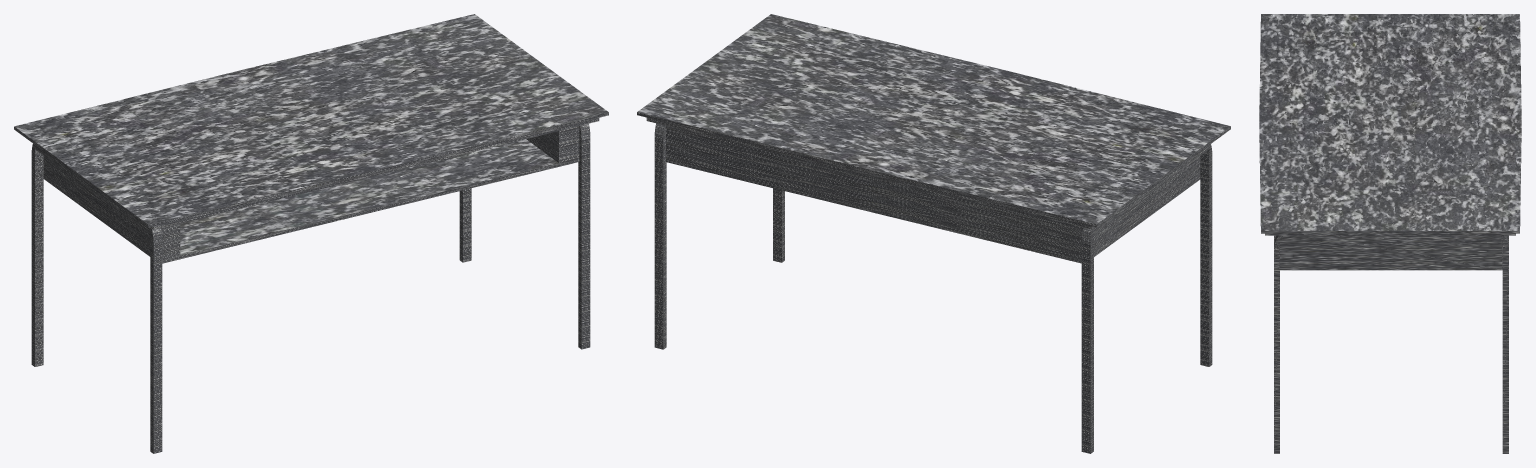
File: marble table.fbx
The picture shows the model from 3 angles, left to right: view 1: azimuth 30°, elevation 25°; view 2: azimuth 150°, elevation 25°; view 3: azimuth 270°, elevation 25°; orthographic projection. The views are drawn at different scales.
Visible parts, largest first — view 1: Cube.010; view 2: Cube.010; view 3: Cube.010.
Part boxes in pixels (box(x1,y1,x2,y2)): Cube.010: box(14, 14, 608, 453); Cube.010: box(637, 14, 1230, 453); Cube.010: box(1259, 14, 1521, 453).
Size of the model in its own units: 222 by 109 by 114.
